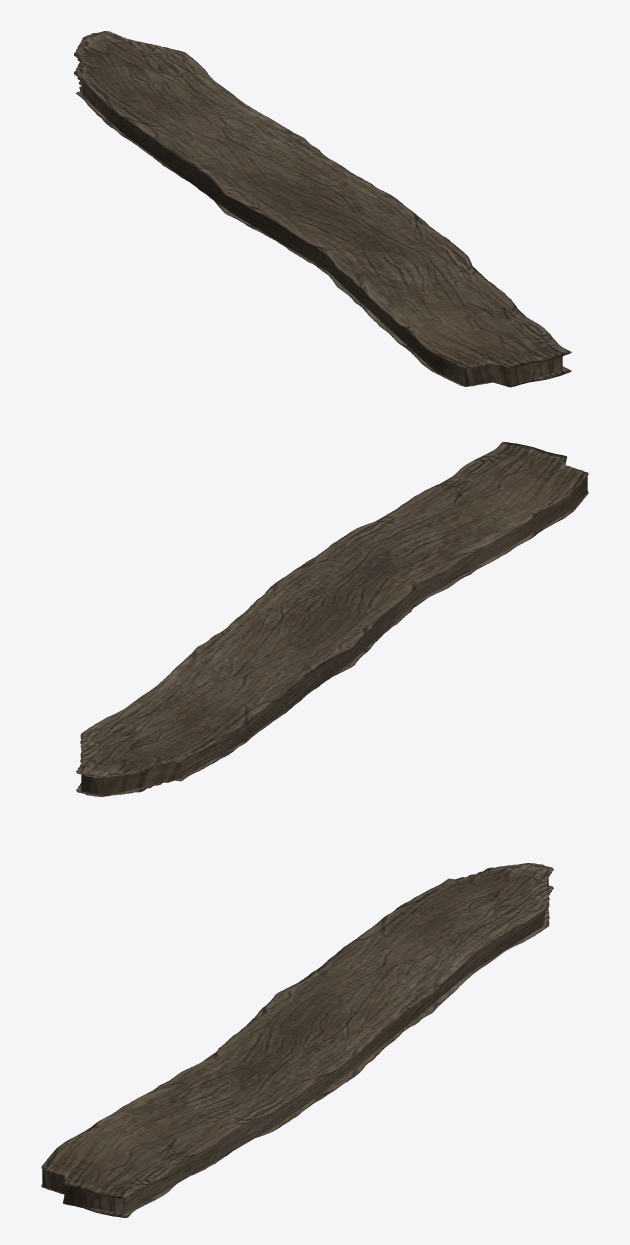
The model's file is MEP_Plank_01.fbx.
3 views of the same model, one above another, from view 1: azimuth 30°, elevation 25°; view 2: azimuth 150°, elevation 25°; view 3: azimuth 330°, elevation 25° (orthographic).
Parts seen in each view (by area): view 1: MEP_Plank_01; view 2: MEP_Plank_01; view 3: MEP_Plank_01.
Part boxes in pixels (x1,y1,x2,y2): MEP_Plank_01: (74, 31, 571, 387); MEP_Plank_01: (76, 442, 588, 796); MEP_Plank_01: (41, 863, 553, 1217).
Bounding box in the file's own units: 0.4186 × 0.0508 × 2.2.
